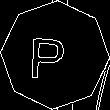P_N: (35, 29, 75, 81)
